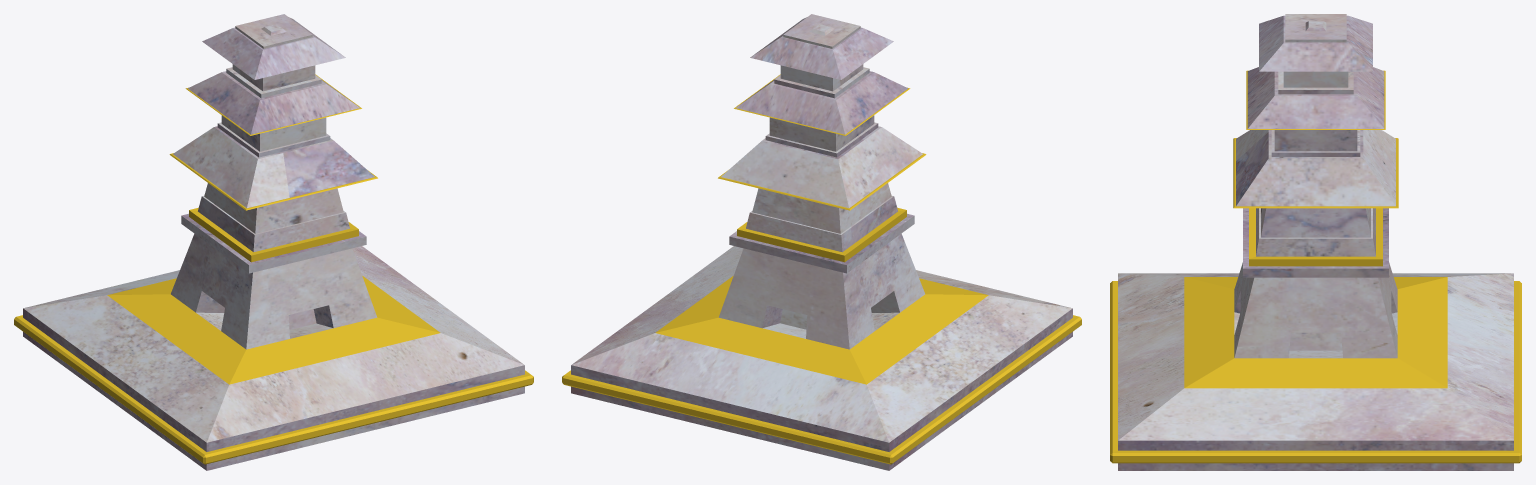
The model's file is statue.fbx.
3 views of the same model, side by side, from view 1: azimuth 30°, elevation 25°; view 2: azimuth 150°, elevation 25°; view 3: azimuth 270°, elevation 25° (orthographic). The views are drawn at different scales.
Visible parts, largest first — view 1: Cube; view 2: Cube; view 3: Cube.
Boxes of the visible parts, x1,y1,x2,y2 form: Cube: (14, 14, 533, 470); Cube: (562, 14, 1081, 470); Cube: (1110, 14, 1521, 470).
Bounding box in the file's own units: 208 × 202 × 208.
